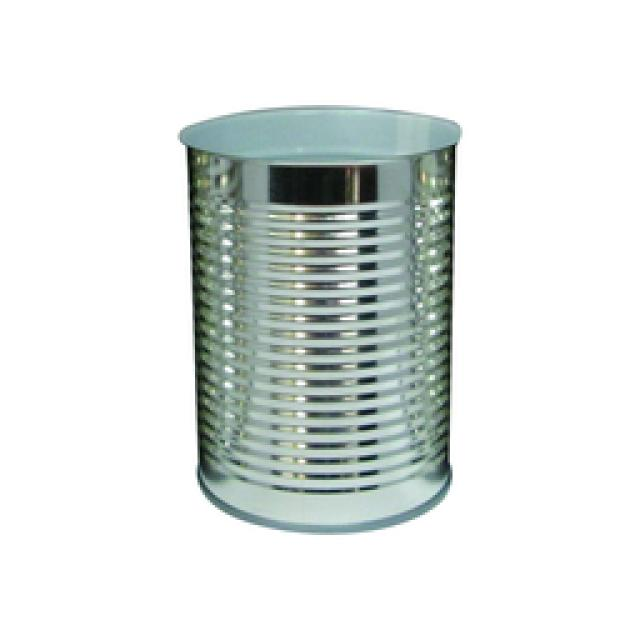alumunium: (180, 108, 460, 530)
